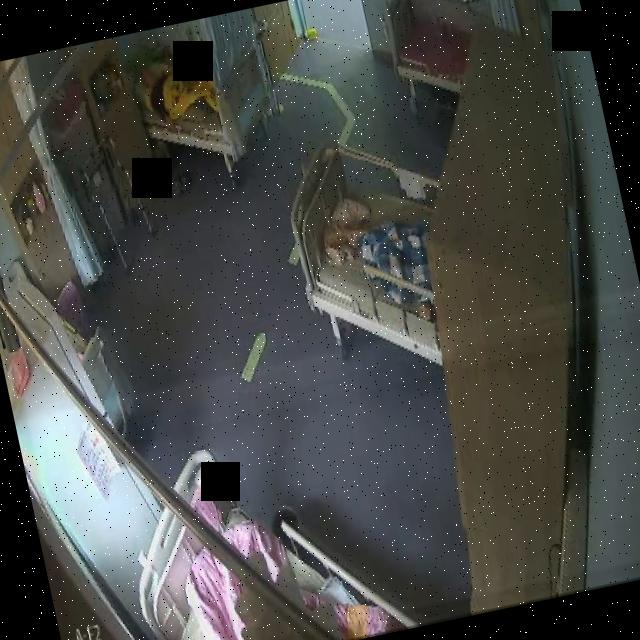bed: (109, 415, 393, 640), (278, 124, 466, 377), (129, 28, 281, 170), (376, 0, 481, 104)
walker: (74, 129, 161, 275)
